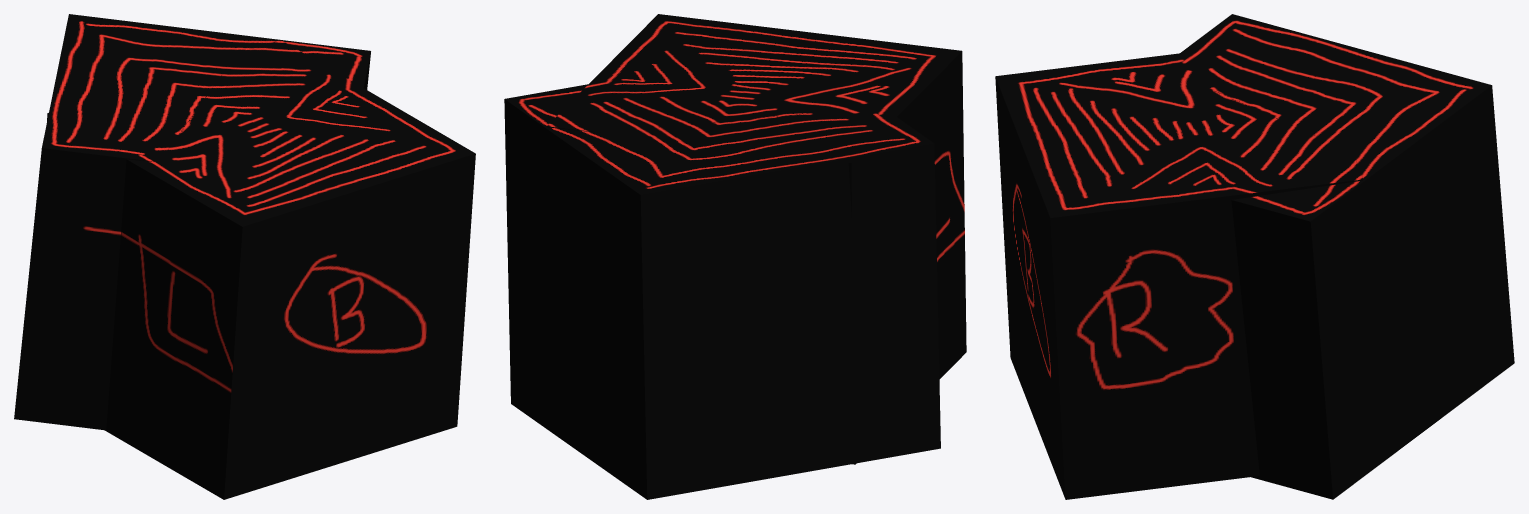
The model's file is man_mesh_arrow.fbx.
3 renders of one model, left to right at view 1: azimuth 30°, elevation 25°; view 2: azimuth 150°, elevation 25°; view 3: azimuth 270°, elevation 25°, orthographic. The views are drawn at different scales.
Parts seen in each view (by area): view 1: Cube.001; view 2: Cube.001; view 3: Cube.001.
Boxes of the visible parts, left/top/right/bottom form: Cube.001: left=14, top=14, right=475, bottom=499; Cube.001: left=504, top=14, right=966, bottom=499; Cube.001: left=995, top=14, right=1514, bottom=499.
Size of the model in its own units: 256 by 196 by 287.
Materials: 1 (1 with a texture image).
